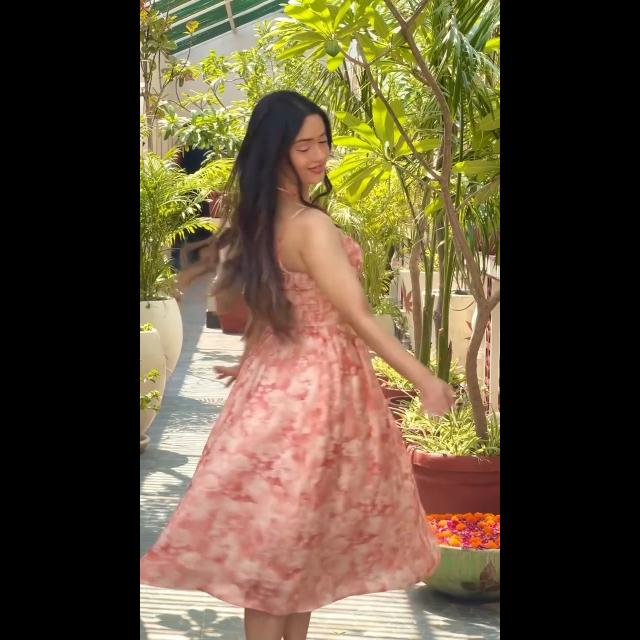dress: (151, 204, 413, 588)
